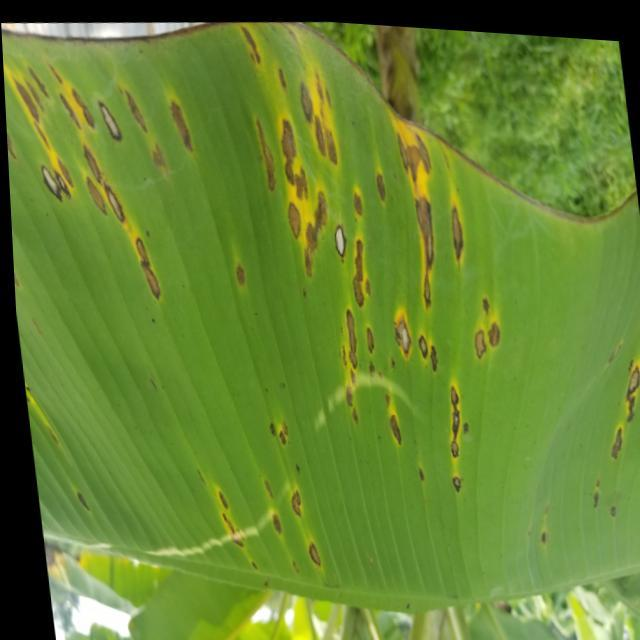Early_rust: (1, 29, 640, 597)
